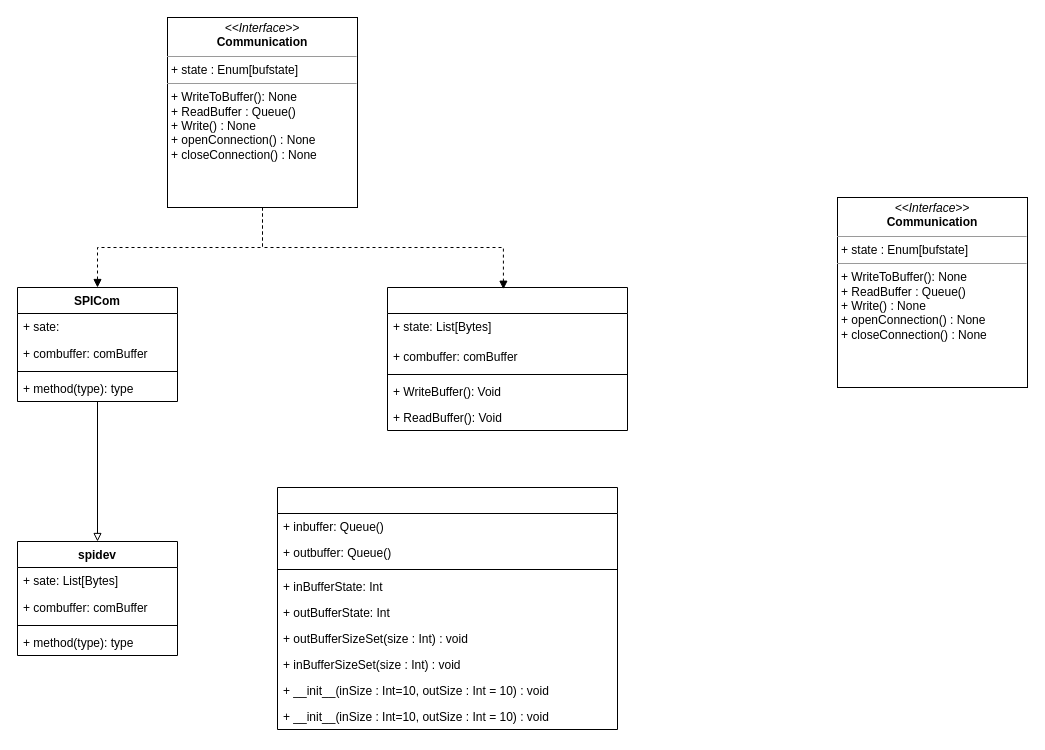
Some shapes in this 1045 by 750 pixel diagram are drawn without their labels. Each missing label, with the box of its shape:
combuffer(dataclass): (276, 486, 618, 730)
I2C: (386, 286, 628, 430)
